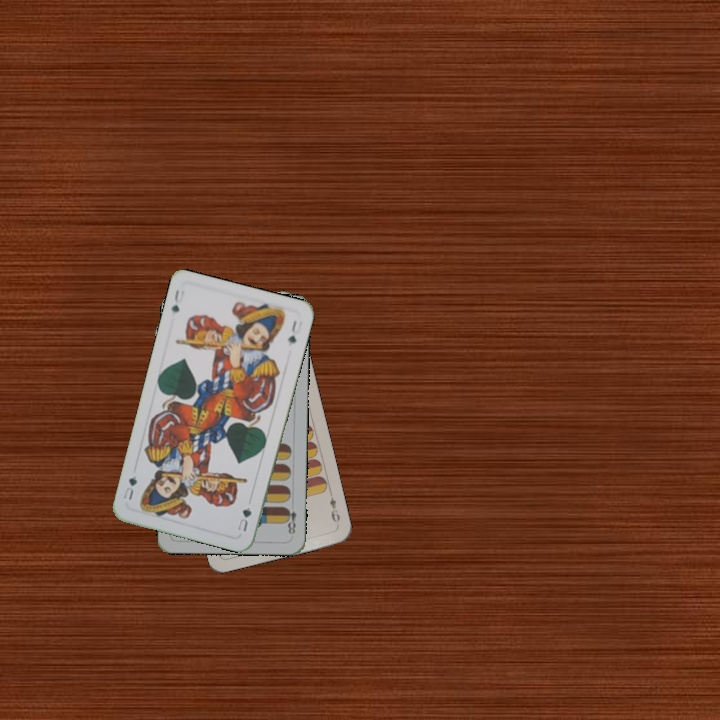E8: (282, 504, 299, 539)
E9: (325, 488, 342, 528)
GU: (234, 496, 254, 534), (167, 285, 187, 315)
